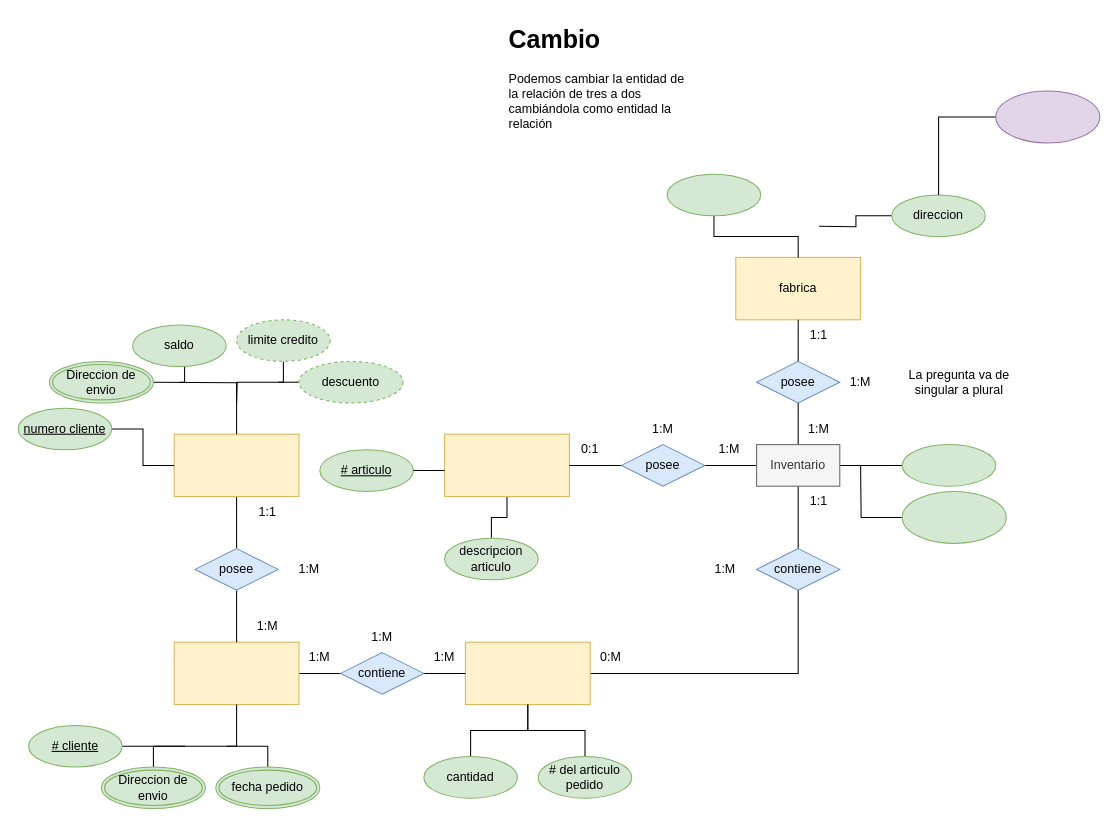
Some shapes in this 1118 by 827 pixel diagram are drawn without their labels. The shapes that lost their labels are listed below. From the top down, each one's centre as x and y in pixels, then its label:
(x=1047, y=116): # de la calle, comuna, ciudad
(x=713, y=194): # de la fabrica
(x=236, y=465): cliente
(x=506, y=465): articulo
(x=948, y=465): existencias
(x=953, y=516): articulos totales que provee
(x=236, y=673): cabecera
(x=527, y=673): detalle
